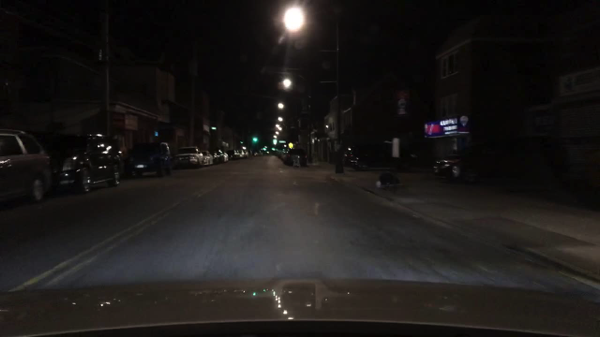car: (432, 132, 570, 185), (43, 132, 124, 193), (0, 127, 51, 204), (345, 143, 418, 171), (124, 141, 172, 178), (173, 146, 202, 169), (286, 148, 308, 165), (200, 151, 214, 166), (217, 148, 229, 162), (283, 149, 293, 162), (210, 152, 221, 163), (227, 150, 237, 161), (277, 149, 287, 158), (233, 150, 244, 158), (240, 149, 249, 157), (248, 148, 255, 157), (272, 149, 280, 155), (256, 151, 263, 156)
traffic light: (252, 137, 261, 144)
traffic sign: (394, 90, 409, 115), (391, 138, 401, 157), (287, 143, 294, 148)
